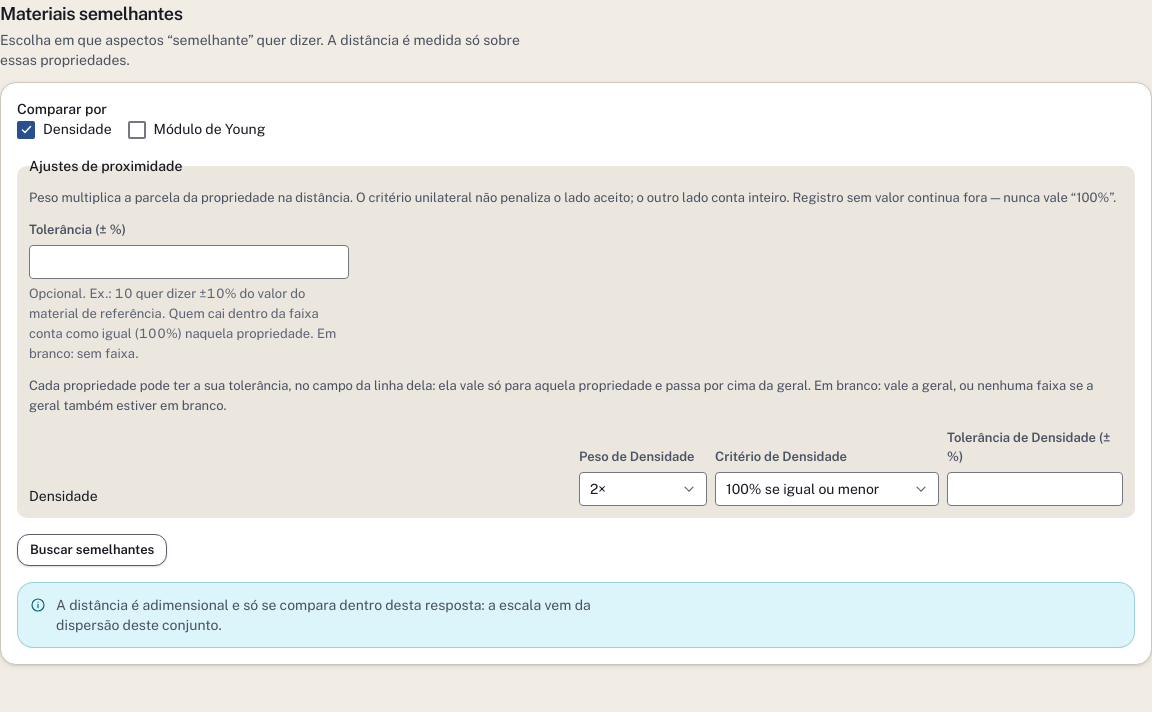
Scenario: materiais semelhantes › mostra a base em que a resposta foi medida
Click the button "Buscar semelhantes".
click(92, 550)  # box [17,534,167,566]
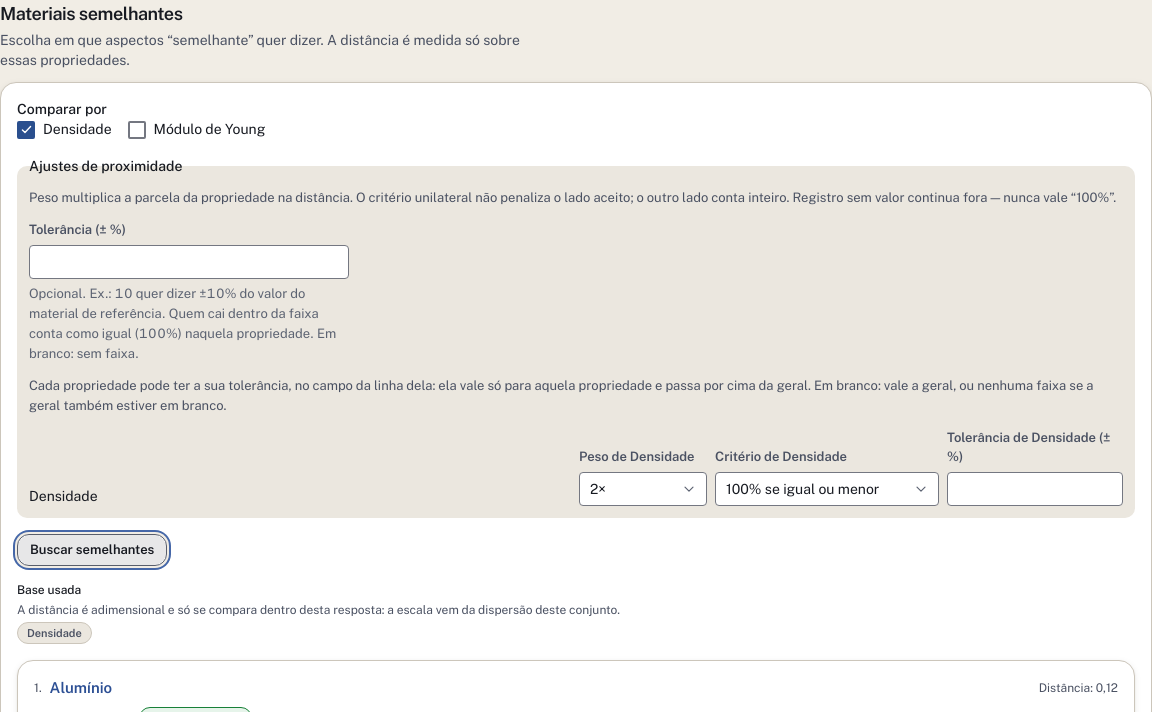
Expected: the text "Base usada" is shown, [17,582,81,596]
